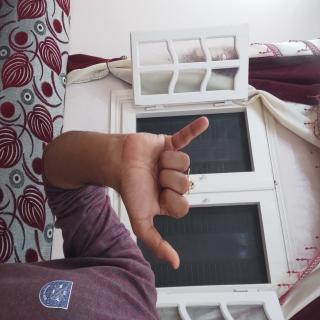YA: (83, 140, 209, 286)
